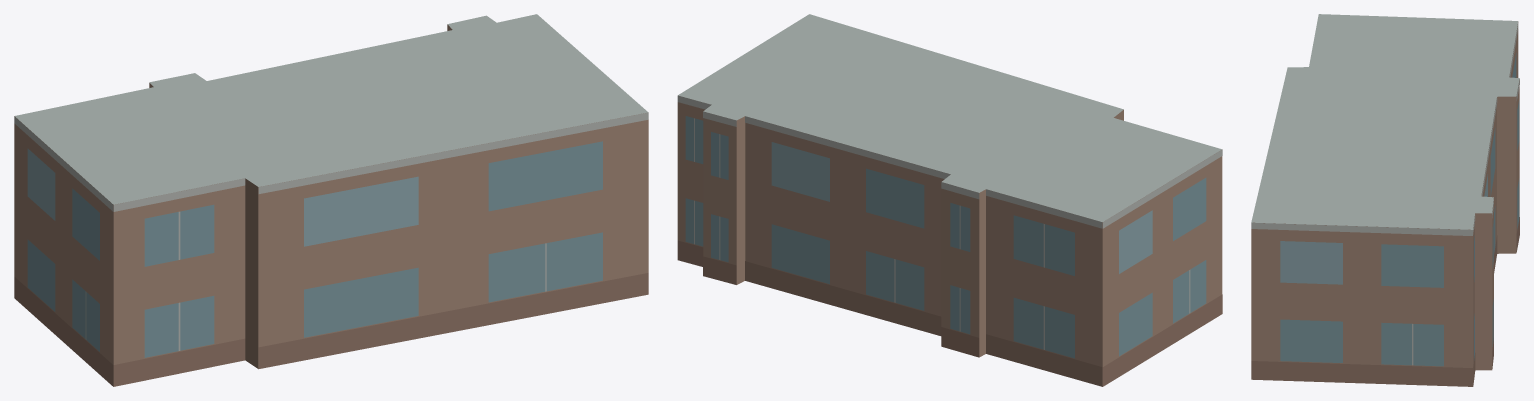
The model's file is survey-upis-32753469.glb.
The picture shows the model from 3 angles, left to right: view 1: azimuth 30°, elevation 25°; view 2: azimuth 150°, elevation 25°; view 3: azimuth 270°, elevation 25°; orthographic projection. The views are drawn at different scales.
Visible parts, largest first — view 1: survey-upis-32753469.tmp; view 2: survey-upis-32753469.tmp; view 3: survey-upis-32753469.tmp.
Part boxes in pixels (x1,y1,x2,y2): survey-upis-32753469.tmp: (14, 14, 648, 386); survey-upis-32753469.tmp: (677, 14, 1222, 386); survey-upis-32753469.tmp: (1251, 14, 1519, 386).
Bounding box in the file's own units: 17.99 × 6.1 × 9.47.
